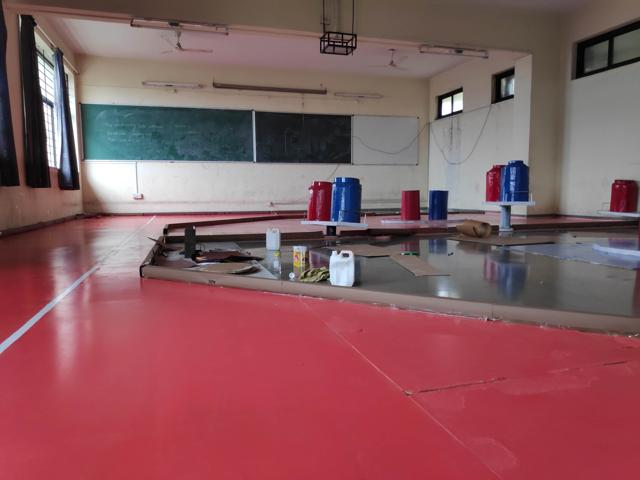Blue: (332, 177, 364, 225), (501, 158, 530, 201), (430, 191, 449, 222)
Red: (307, 182, 333, 221), (610, 179, 638, 212), (485, 166, 502, 203), (401, 190, 419, 220)
